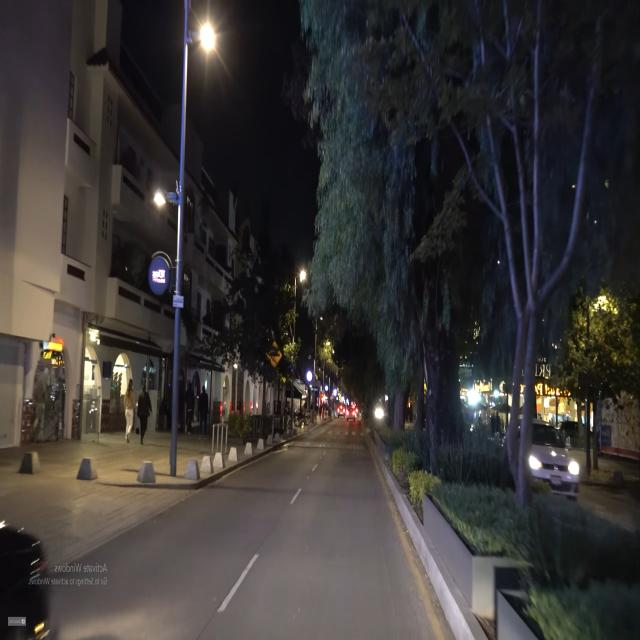headlights: (519, 448, 583, 482)
